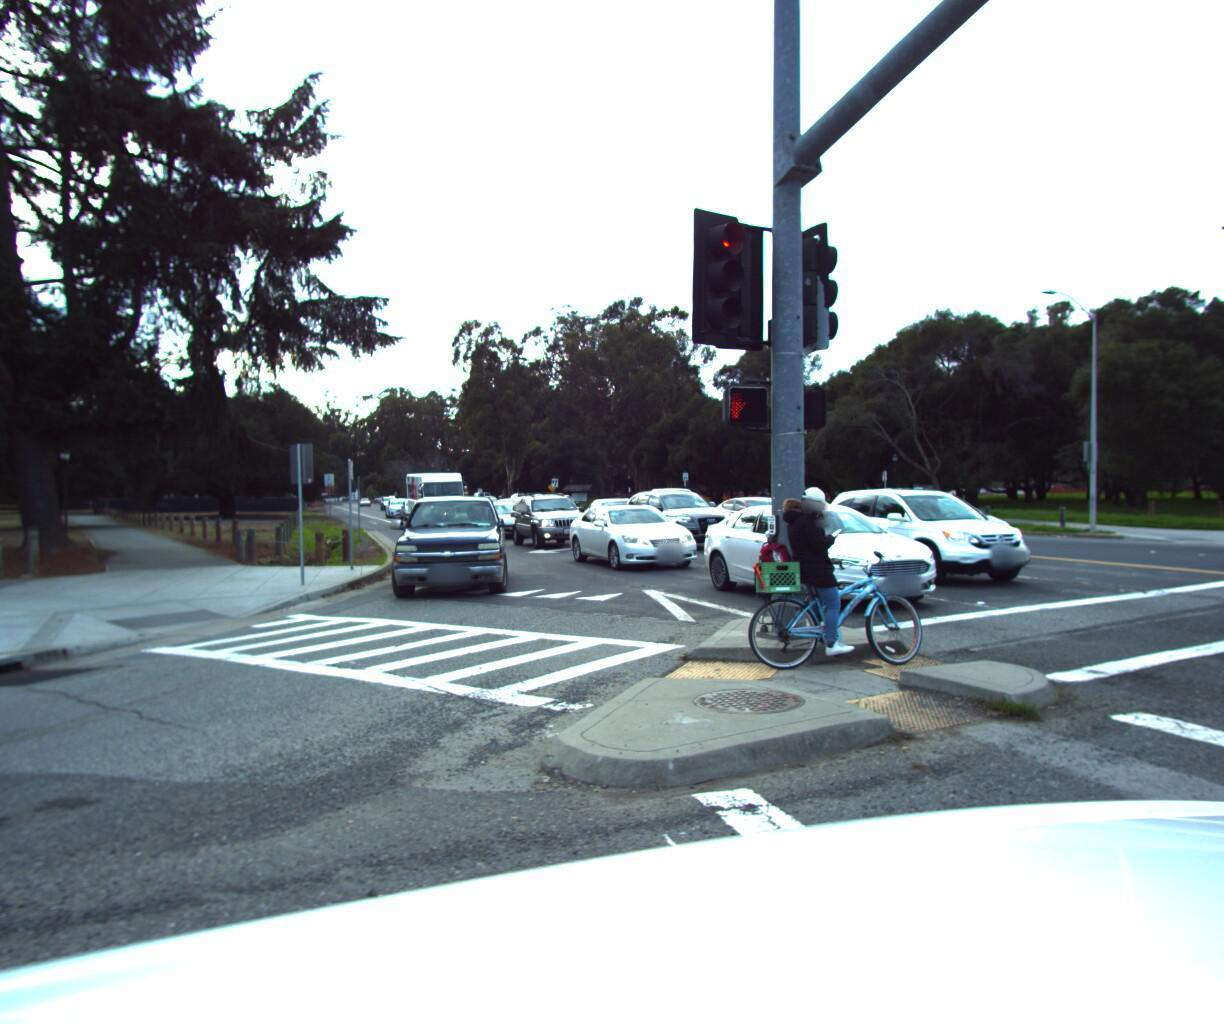bicycle: (729, 477, 948, 681)
car: (684, 494, 977, 613), (809, 481, 1055, 582), (387, 488, 506, 607), (853, 482, 1038, 558), (557, 494, 711, 568), (616, 483, 749, 546), (501, 486, 602, 546), (709, 489, 823, 538), (622, 478, 725, 528), (571, 489, 671, 537), (463, 496, 539, 541), (488, 491, 544, 523), (395, 495, 432, 518), (382, 493, 415, 517)
truck: (400, 462, 472, 531)
